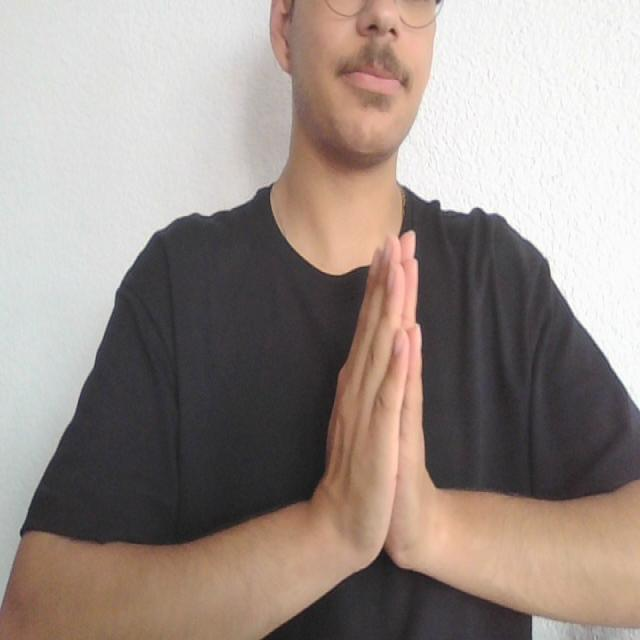Ozur-Dilemek: (303, 228, 473, 592)
